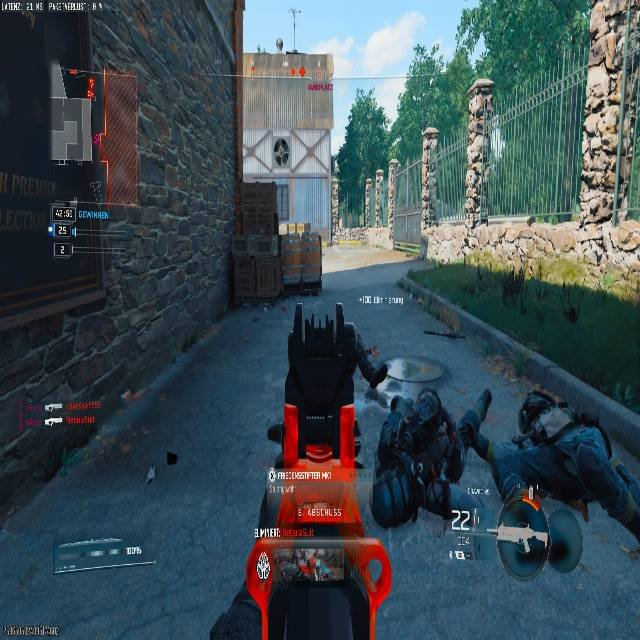head: (413, 387, 441, 422)
player: (370, 386, 492, 536), (273, 137, 289, 166)
